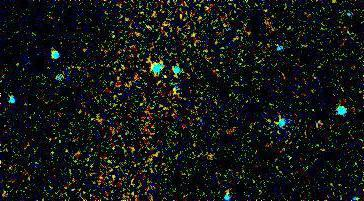star: (302, 112, 332, 142)
